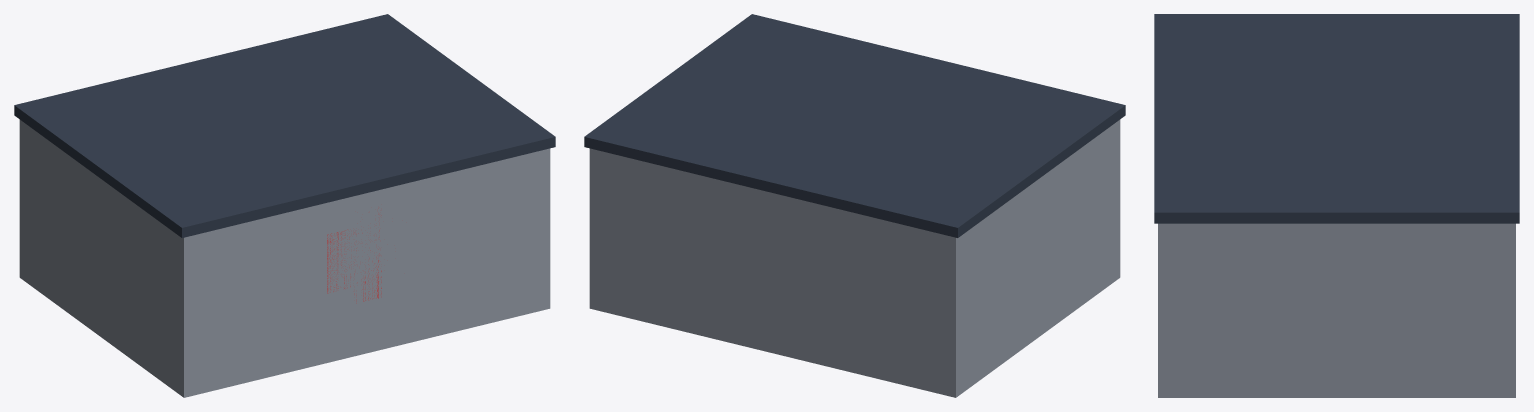
File: medicalCenter.glb
The picture shows the model from 3 angles, left to right: view 1: azimuth 30°, elevation 25°; view 2: azimuth 150°, elevation 25°; view 3: azimuth 270°, elevation 25°; orthographic projection. The views are drawn at different scales.
Parts seen in each view (by area): view 1: medicalCenter; view 2: medicalCenter; view 3: medicalCenter.
Part boxes in pixels (<box>): medicalCenter: <box>14,14,555,397</box>; medicalCenter: <box>584,14,1125,397</box>; medicalCenter: <box>1154,14,1519,397</box>.
Bounding box in the file's own units: 4.59 × 2.02 × 3.57.
